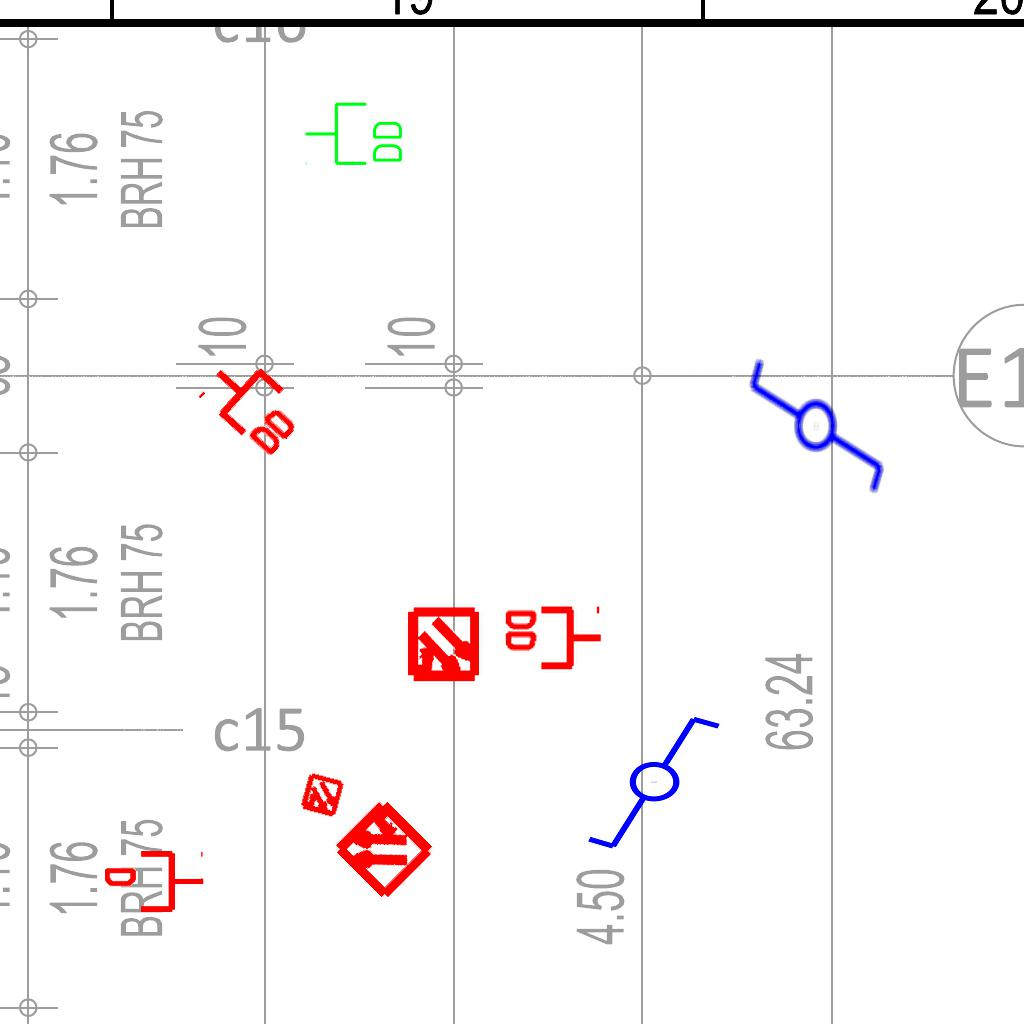Datenanschluss_einfach: (105, 847, 205, 916)
Datenanschluss_zweifach: (194, 343, 317, 464), (501, 605, 604, 674), (303, 100, 406, 169)
OT_Multisensormelder_(Kombination_RMO_WMD): (302, 767, 463, 928), (387, 590, 500, 703), (287, 761, 357, 831)
Wechselschalter: (584, 712, 741, 856), (746, 339, 890, 496)
